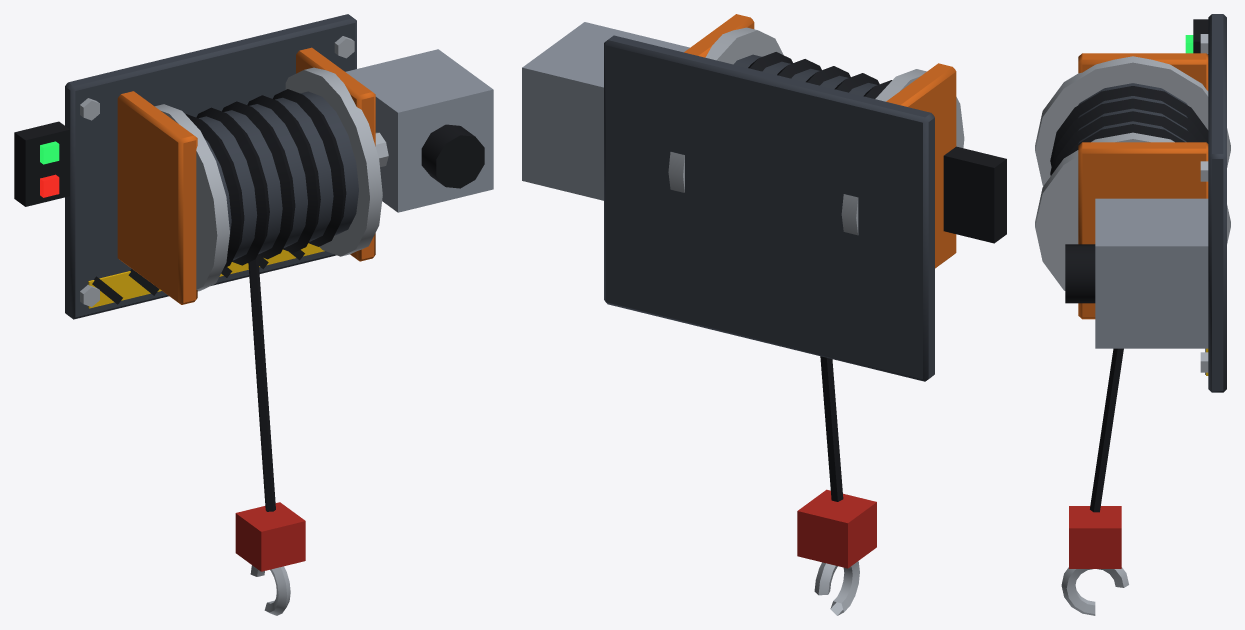
The model's file is hangartool_wall_winch.glb.
3 views of the same model, side by side, from view 1: azimuth 30°, elevation 25°; view 2: azimuth 150°, elevation 25°; view 3: azimuth 270°, elevation 25° (orthographic). The views are drawn at different scales.
Parts seen in each view (by area): view 1: hangartool_wall_winch; view 2: hangartool_wall_winch; view 3: hangartool_wall_winch.
Boxes of the visible parts, x1,y1,x2,y2 form: hangartool_wall_winch: [14, 14, 493, 615]; hangartool_wall_winch: [522, 14, 1006, 615]; hangartool_wall_winch: [1035, 14, 1230, 615].
Bounding box in the file's own units: 1.32 × 1.56 × 0.52.
